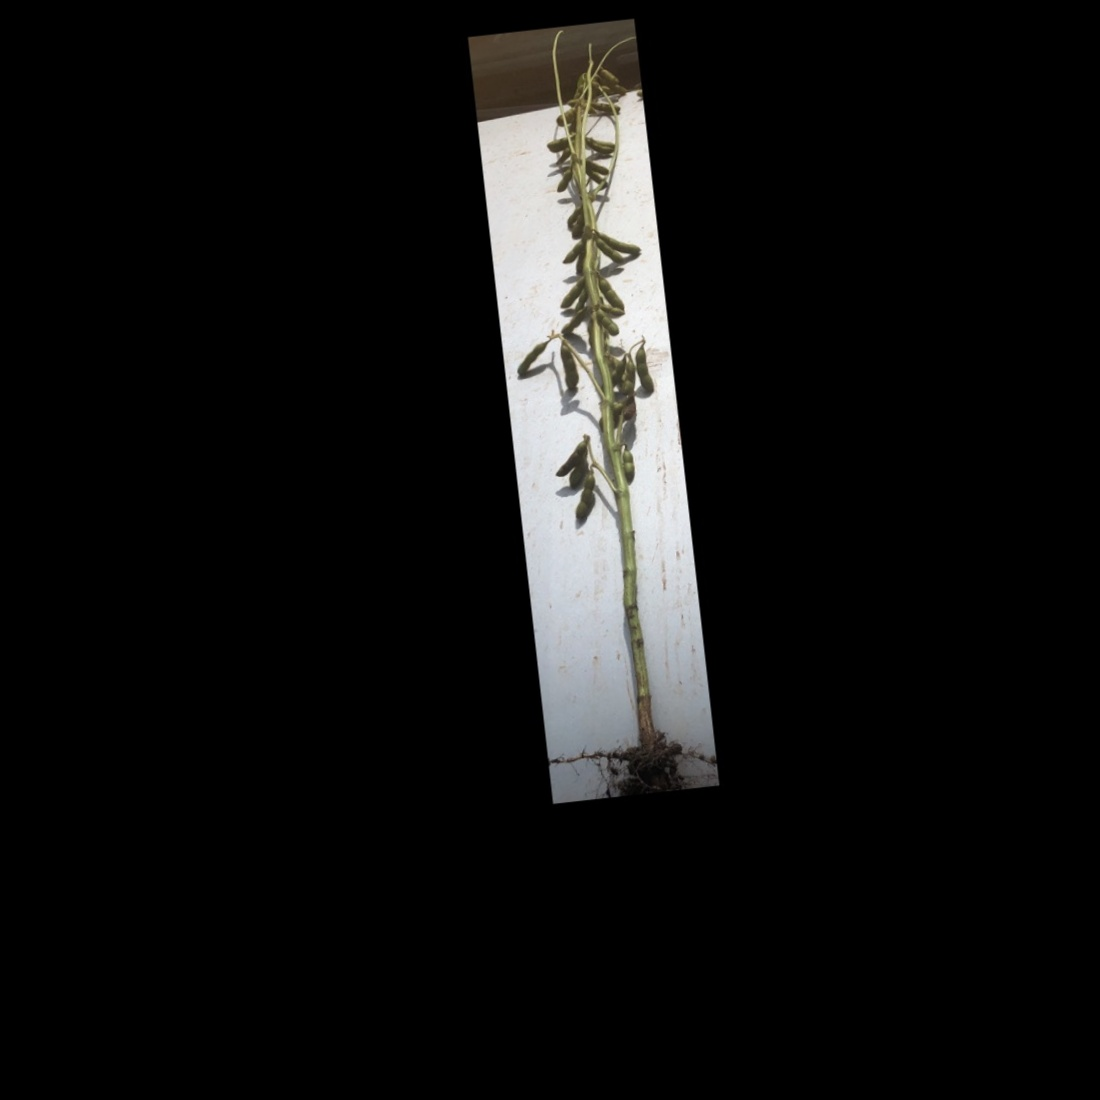pod: (514, 339, 556, 377), (571, 470, 598, 524), (632, 346, 659, 397), (558, 339, 581, 391), (558, 308, 591, 336), (595, 309, 621, 340), (552, 166, 577, 195), (618, 446, 638, 483), (562, 207, 584, 226), (573, 289, 590, 312), (601, 64, 621, 85)
soy: (479, 32, 715, 779)
